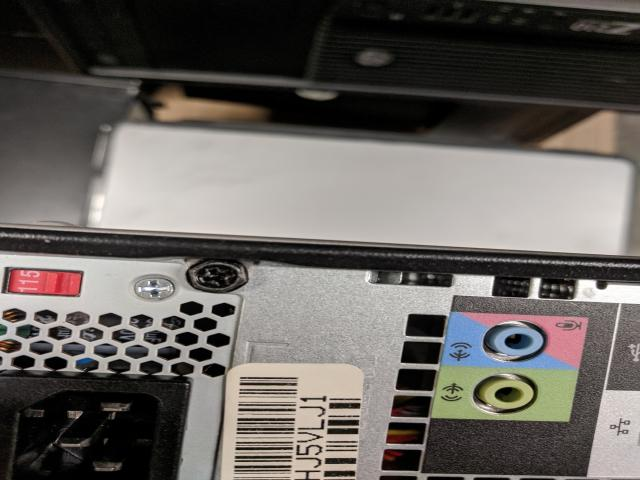CRS: (185, 258, 249, 293), (133, 276, 177, 300)
